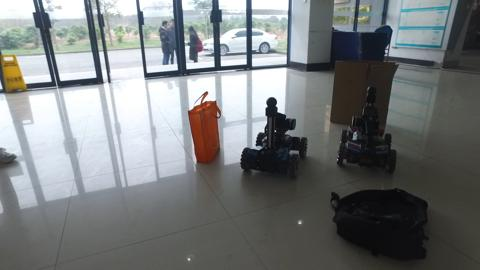bag: (328, 186, 434, 255), (187, 92, 225, 166)
chariot: (237, 97, 309, 178), (340, 87, 399, 173)
